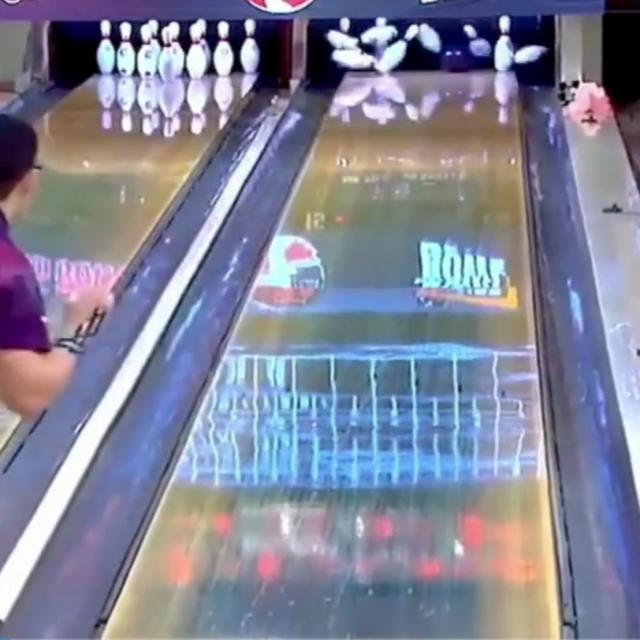alley: (105, 73, 559, 637)
balls: (441, 46, 469, 71)
bottle: (326, 17, 441, 73), (493, 16, 546, 71), (463, 25, 488, 56)
